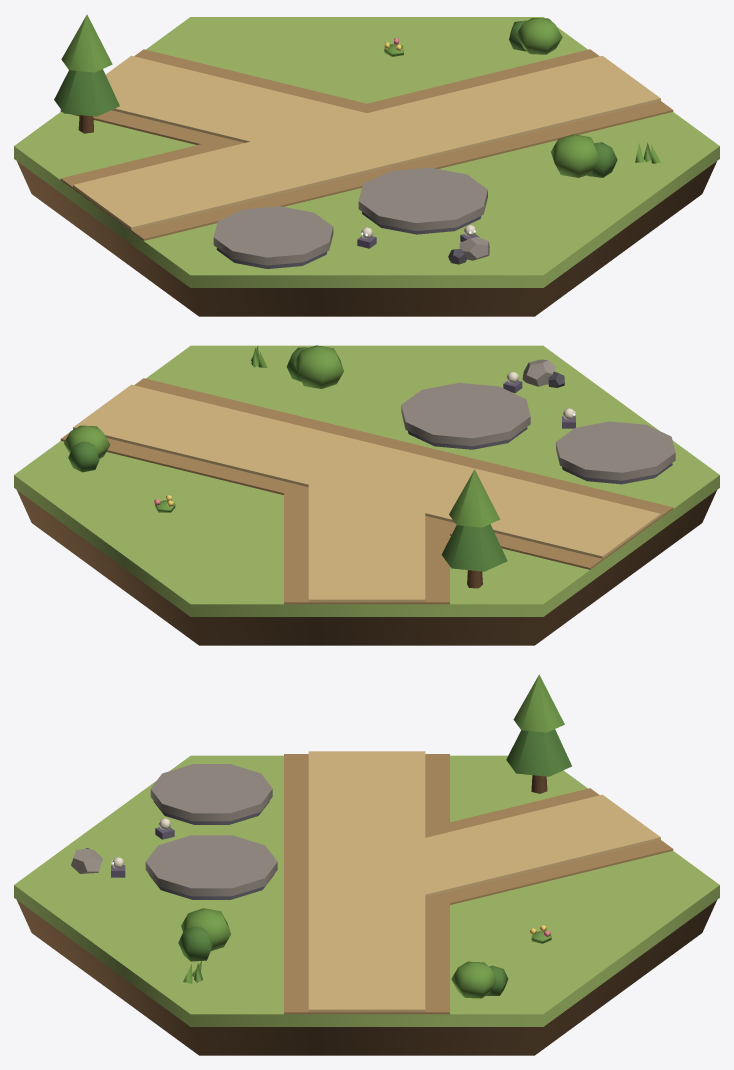
Rendered from tile_soulFork.glb.
The picture shows the model from 3 angles, top to bottom: view 1: azimuth 30°, elevation 25°; view 2: azimuth 150°, elevation 25°; view 3: azimuth 270°, elevation 25°; orthographic projection.
Visible parts, largest first — view 1: ground, road, ground_soil, tower_slot_2_plate, tower_slot_1_plate, road_surface_hub, deco_tree_3_crown, deco_tree_3_crown_b, deco_bush_5_a, deco_bush_0_a, deco_bush_5_b, road_verge_hub (+1 smaller); view 2: ground, road, ground_soil, tower_slot_2_plate, tower_slot_1_plate, deco_tree_3_crown, road_surface_hub, deco_bush_5_a, deco_tree_3_crown_b, deco_bush_0_a, deco_bush_0_b, deco_stone_2_a; view 3: ground, road, ground_soil, tower_slot_2_plate, tower_slot_1_plate, deco_tree_3_crown, deco_tree_3_crown_b, road_surface_hub, deco_bush_0_a, deco_bush_5_a, deco_bush_5_b, deco_stone_2_a.
Boxes of the visible parts, left/top/right/bottom form: ground: left=14, top=17, right=719, bottom=287; road: left=60, top=49, right=673, bottom=240; ground_soil: left=17, top=161, right=716, bottom=316; tower_slot_2_plate: left=358, top=167, right=487, bottom=230; tower_slot_1_plate: left=213, top=206, right=333, bottom=265; road_surface_hub: left=309, top=117, right=424, bottom=162; deco_tree_3_crown: left=54, top=69, right=119, bottom=116; deco_tree_3_crown_b: left=61, top=14, right=112, bottom=72; deco_bush_5_a: left=551, top=134, right=598, bottom=177; deco_bush_0_a: left=516, top=18, right=562, bottom=54; deco_bush_5_b: left=587, top=142, right=617, bottom=177; road_verge_hub: left=346, top=158, right=436, bottom=178; ground: left=14, top=345, right=719, bottom=616; road: left=60, top=378, right=673, bottom=604; ground_soil: left=17, top=490, right=716, bottom=645; tower_slot_2_plate: left=401, top=383, right=530, bottom=446; tower_slot_1_plate: left=556, top=421, right=675, bottom=480; deco_tree_3_crown: left=441, top=524, right=507, bottom=571; road_surface_hub: left=309, top=446, right=424, bottom=475; deco_bush_5_a: left=294, top=345, right=343, bottom=388; deco_tree_3_crown_b: left=449, top=469, right=500, bottom=527; deco_bush_0_a: left=64, top=425, right=110, bottom=458; deco_bush_0_b: left=68, top=441, right=99, bottom=472; deco_stone_2_a: left=522, top=359, right=555, bottom=386; ground: left=14, top=755, right=719, bottom=1026; road: left=284, top=751, right=673, bottom=1014; ground_soil: left=17, top=900, right=716, bottom=1055; tower_slot_2_plate: left=145, top=835, right=277, bottom=896; tower_slot_1_plate: left=150, top=764, right=272, bottom=821; deco_tree_3_crown: left=506, top=729, right=571, bottom=776; deco_tree_3_crown_b: left=513, top=674, right=564, bottom=732; road_surface_hub: left=309, top=856, right=424, bottom=904; deco_bush_0_a: left=451, top=961, right=496, bottom=998; deco_bush_5_a: left=181, top=908, right=230, bottom=950; deco_bush_5_b: left=178, top=926, right=212, bottom=961; deco_stone_2_a: left=71, top=848, right=102, bottom=873.
Bounding box in the file's own units: 1.73 × 0.5131 × 2.
